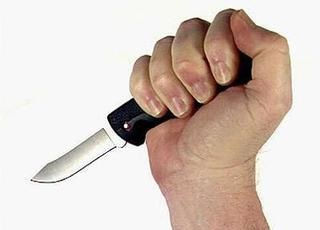knife: (23, 51, 209, 191)
